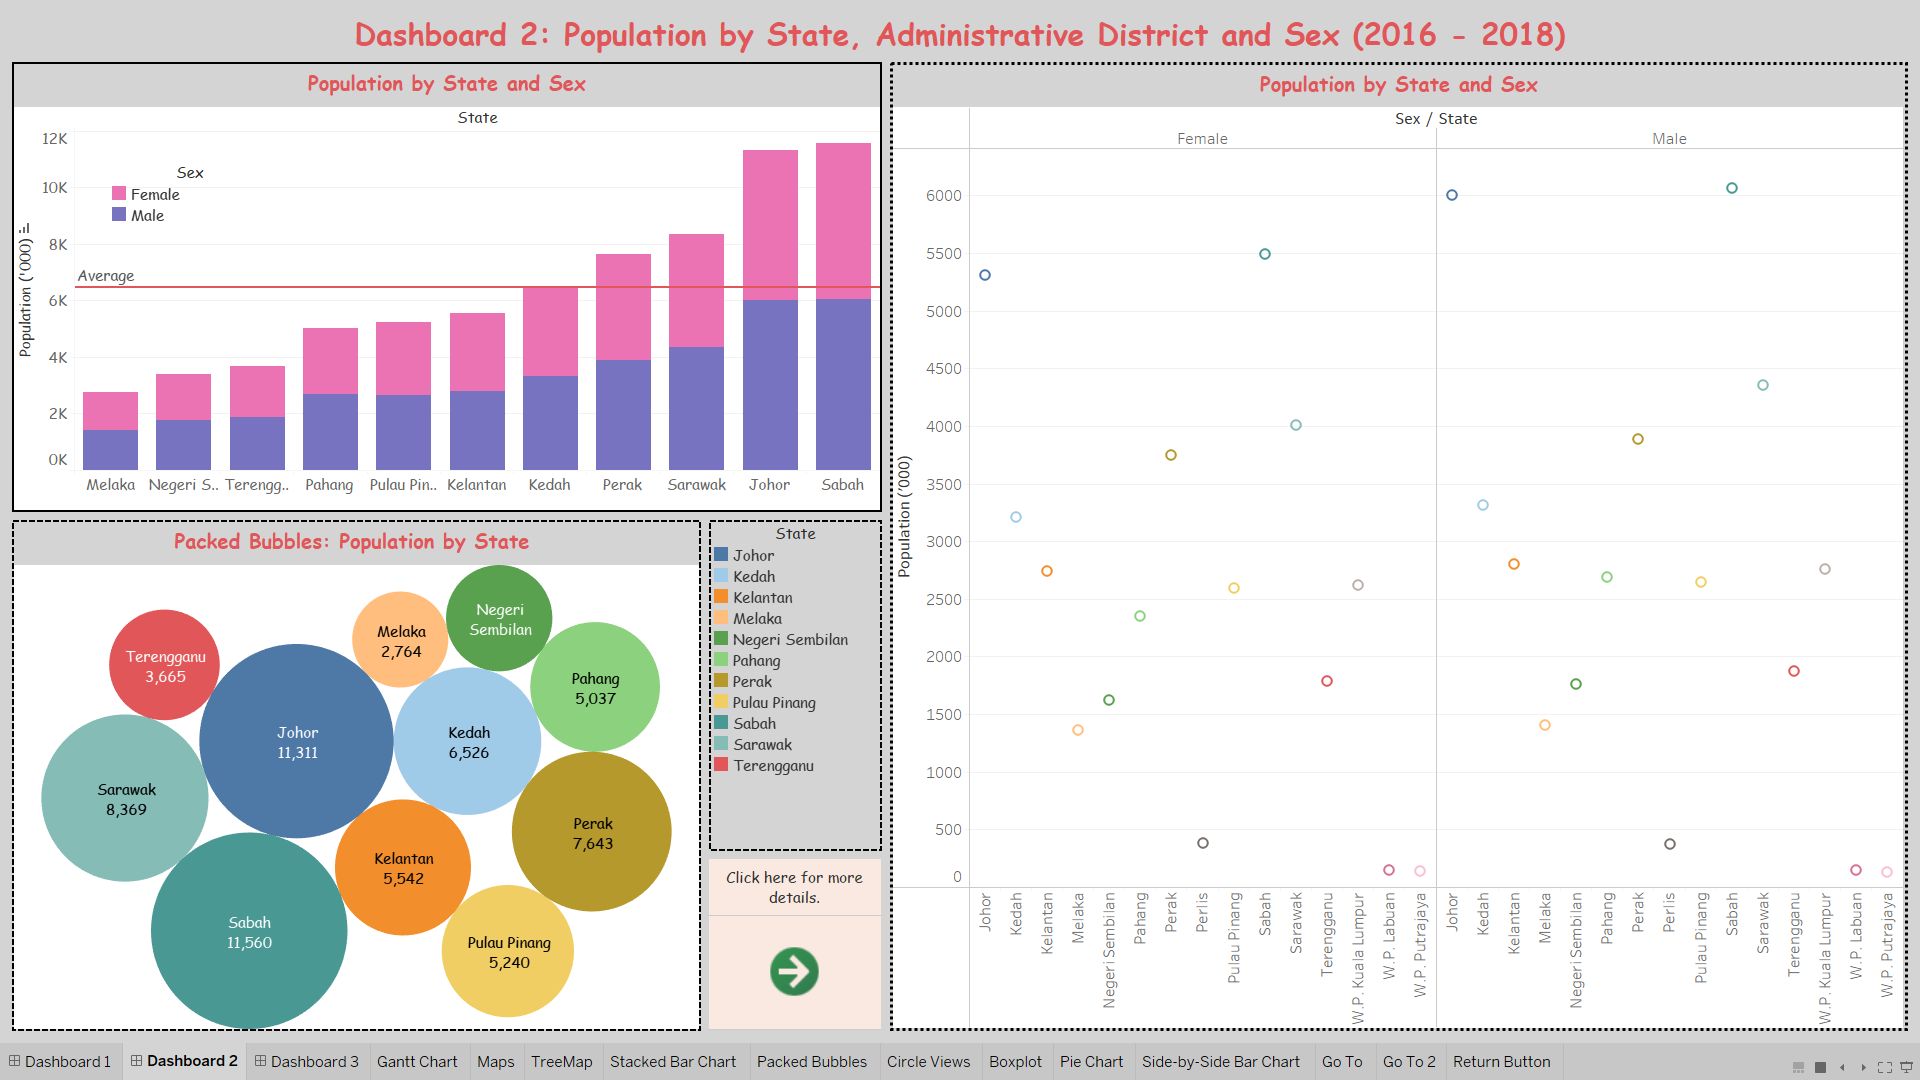

This screenshot's page, from the dashboard's own definition file:
{"tool":"tableau","page":{"name":"Dashboard 2","canvas":[1000,1000],"units":"permille","ordinal":1},"visuals":[{"type":"worksheet","box":[0,0,1000,1000]},{"type":"worksheet","param":"vert","box":[4.8,9.2,990.3,981.7]},{"type":"worksheet","box":[4.8,9.2,990.3,57.3]},{"type":"worksheet","param":"horz","box":[4.8,66.4,990.3,924.4]},{"type":"worksheet","box":[4.8,66.4,529.9,924.4]},{"type":"worksheet","title":"Stacked Bar Chart","mark":"Automatic","rows":["Population ('000)"],"cols":["State"],"box":[4.8,66.4,529.9,433]},{"type":"worksheet","title":"Circle Views","mark":"Shape","rows":["Population ('000)"],"cols":["Sex","State"],"box":[534.7,66.4,460.5,924.4]},{"type":"worksheet","title":"Stacked Bar Chart","mark":"Automatic","rows":["Population ('000)"],"cols":["State"],"param":"[federated.0jr2auv1nwskjz16j5b7o0mq9nzm].[none:Sex:nk]","box":[56.7,154.6,84.5,73.3]},{"type":"worksheet","title":"Packed Bubbles","mark":"Circle","box":[4.8,499.4,420.6,491.4]},{"type":"worksheet","title":"Packed Bubbles","mark":"Circle","param":"[federated.0jr2auv1nwskjz16j5b7o0mq9nzm].[none:State:nk]","box":[425.5,499.4,109.2,320.9]},{"type":"worksheet","title":"Go To 2","mark":"Shape","cols":["Calculation_1950058685096820736"],"box":[425.5,820.4,109.2,170.5]}]}

Visuals, with their boxes on the dashboard's canvas, which has no fixed pixel size, in thousandths of its width and height (x1, y1, x2, y2). These are canvas units, not pixel positions in the 1920x1080 screenshot, which may show the page scaled, cropped or inside an application window:
worksheet: pyautogui.locateOnScreen(0, 0, 1000, 1000)
worksheet: pyautogui.locateOnScreen(5, 9, 995, 991)
worksheet: pyautogui.locateOnScreen(5, 9, 995, 66)
worksheet: pyautogui.locateOnScreen(5, 66, 995, 991)
worksheet: pyautogui.locateOnScreen(5, 66, 535, 991)
"Stacked Bar Chart" worksheet: pyautogui.locateOnScreen(5, 66, 535, 499)
"Circle Views" worksheet (Shape marks): pyautogui.locateOnScreen(535, 66, 995, 991)
"Stacked Bar Chart" worksheet: pyautogui.locateOnScreen(57, 155, 141, 228)
"Packed Bubbles" worksheet (Circle marks): pyautogui.locateOnScreen(5, 499, 425, 991)
"Packed Bubbles" worksheet (Circle marks): pyautogui.locateOnScreen(426, 499, 535, 820)
"Go To 2" worksheet (Shape marks): pyautogui.locateOnScreen(426, 820, 535, 991)
